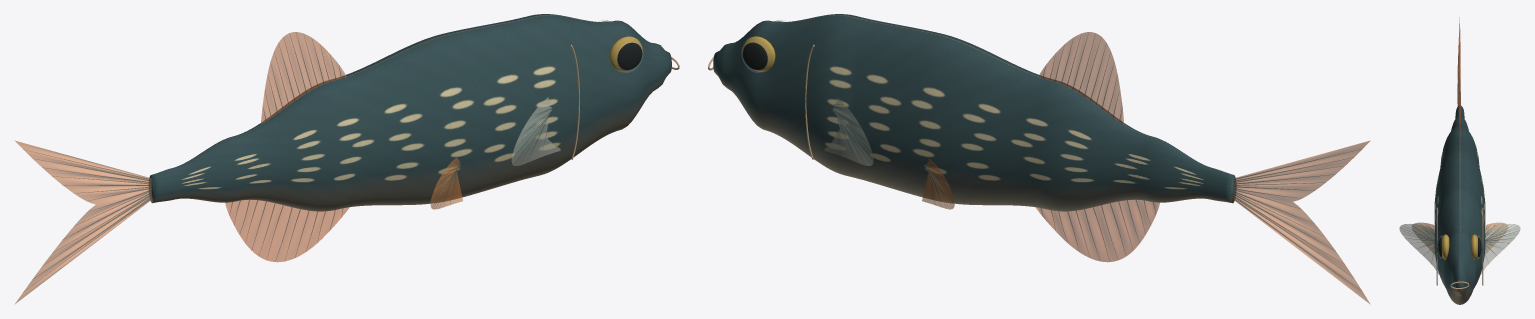
The model's file is pearl-desktop.glb.
The picture shows the model from 3 angles, left to right: view 1: azimuth 30°, elevation 25°; view 2: azimuth 150°, elevation 25°; view 3: azimuth 270°, elevation 25°; orthographic projection. The views are drawn at different scales.
Parts seen in each view (by area): view 1: skin, tail, anal, dorsal, dorsal-ray, pectoral-left, pelvic-left, eye-pupil--1; view 2: skin, tail, anal, dorsal, dorsal-ray, pectoral-left, pelvic-left, eye-pupil--1, eye-iris--1; view 3: skin, pectoral-left, pelvic-left, dorsal-ray, operculum, eye-iris--1, tail, eye-pupil--1, dorsal.
Part boxes in pixels (left/top/right/bottom): skin: left=149, top=14, right=671, bottom=211; tail: left=15, top=141, right=151, bottom=303; anal: left=225, top=200, right=349, bottom=262; dorsal: left=261, top=32, right=346, bottom=123; dorsal-ray: left=24, top=33, right=552, bottom=291; pectoral-left: left=511, top=97, right=560, bottom=165; pelvic-left: left=430, top=158, right=462, bottom=209; eye-pupil--1: left=617, top=42, right=642, bottom=70; skin: left=713, top=14, right=1236, bottom=211; tail: left=1233, top=140, right=1370, bottom=304; anal: left=1036, top=199, right=1159, bottom=262; dorsal: left=1039, top=32, right=1124, bottom=124; dorsal-ray: left=832, top=37, right=1360, bottom=289; pectoral-left: left=824, top=97, right=873, bottom=165; pelvic-left: left=922, top=158, right=954, bottom=209; eye-pupil--1: left=742, top=42, right=767, bottom=70; eye-iris--1: left=742, top=20, right=782, bottom=71; skin: left=1434, top=106, right=1485, bottom=304; pectoral-left: left=1399, top=224, right=1520, bottom=274; pelvic-left: left=1412, top=222, right=1507, bottom=253; dorsal-ray: left=1405, top=39, right=1516, bottom=259; operculum: left=1436, top=207, right=1483, bottom=289; eye-iris--1: left=1442, top=234, right=1477, bottom=259; tail: left=1457, top=17, right=1460, bottom=105; eye-pupil--1: left=1438, top=237, right=1481, bottom=257; dorsal: left=1459, top=80, right=1460, bottom=134.
Bounding box in the file's own units: 0.6032 × 0.1989 × 0.1425.
11 materials, 1 textured.
